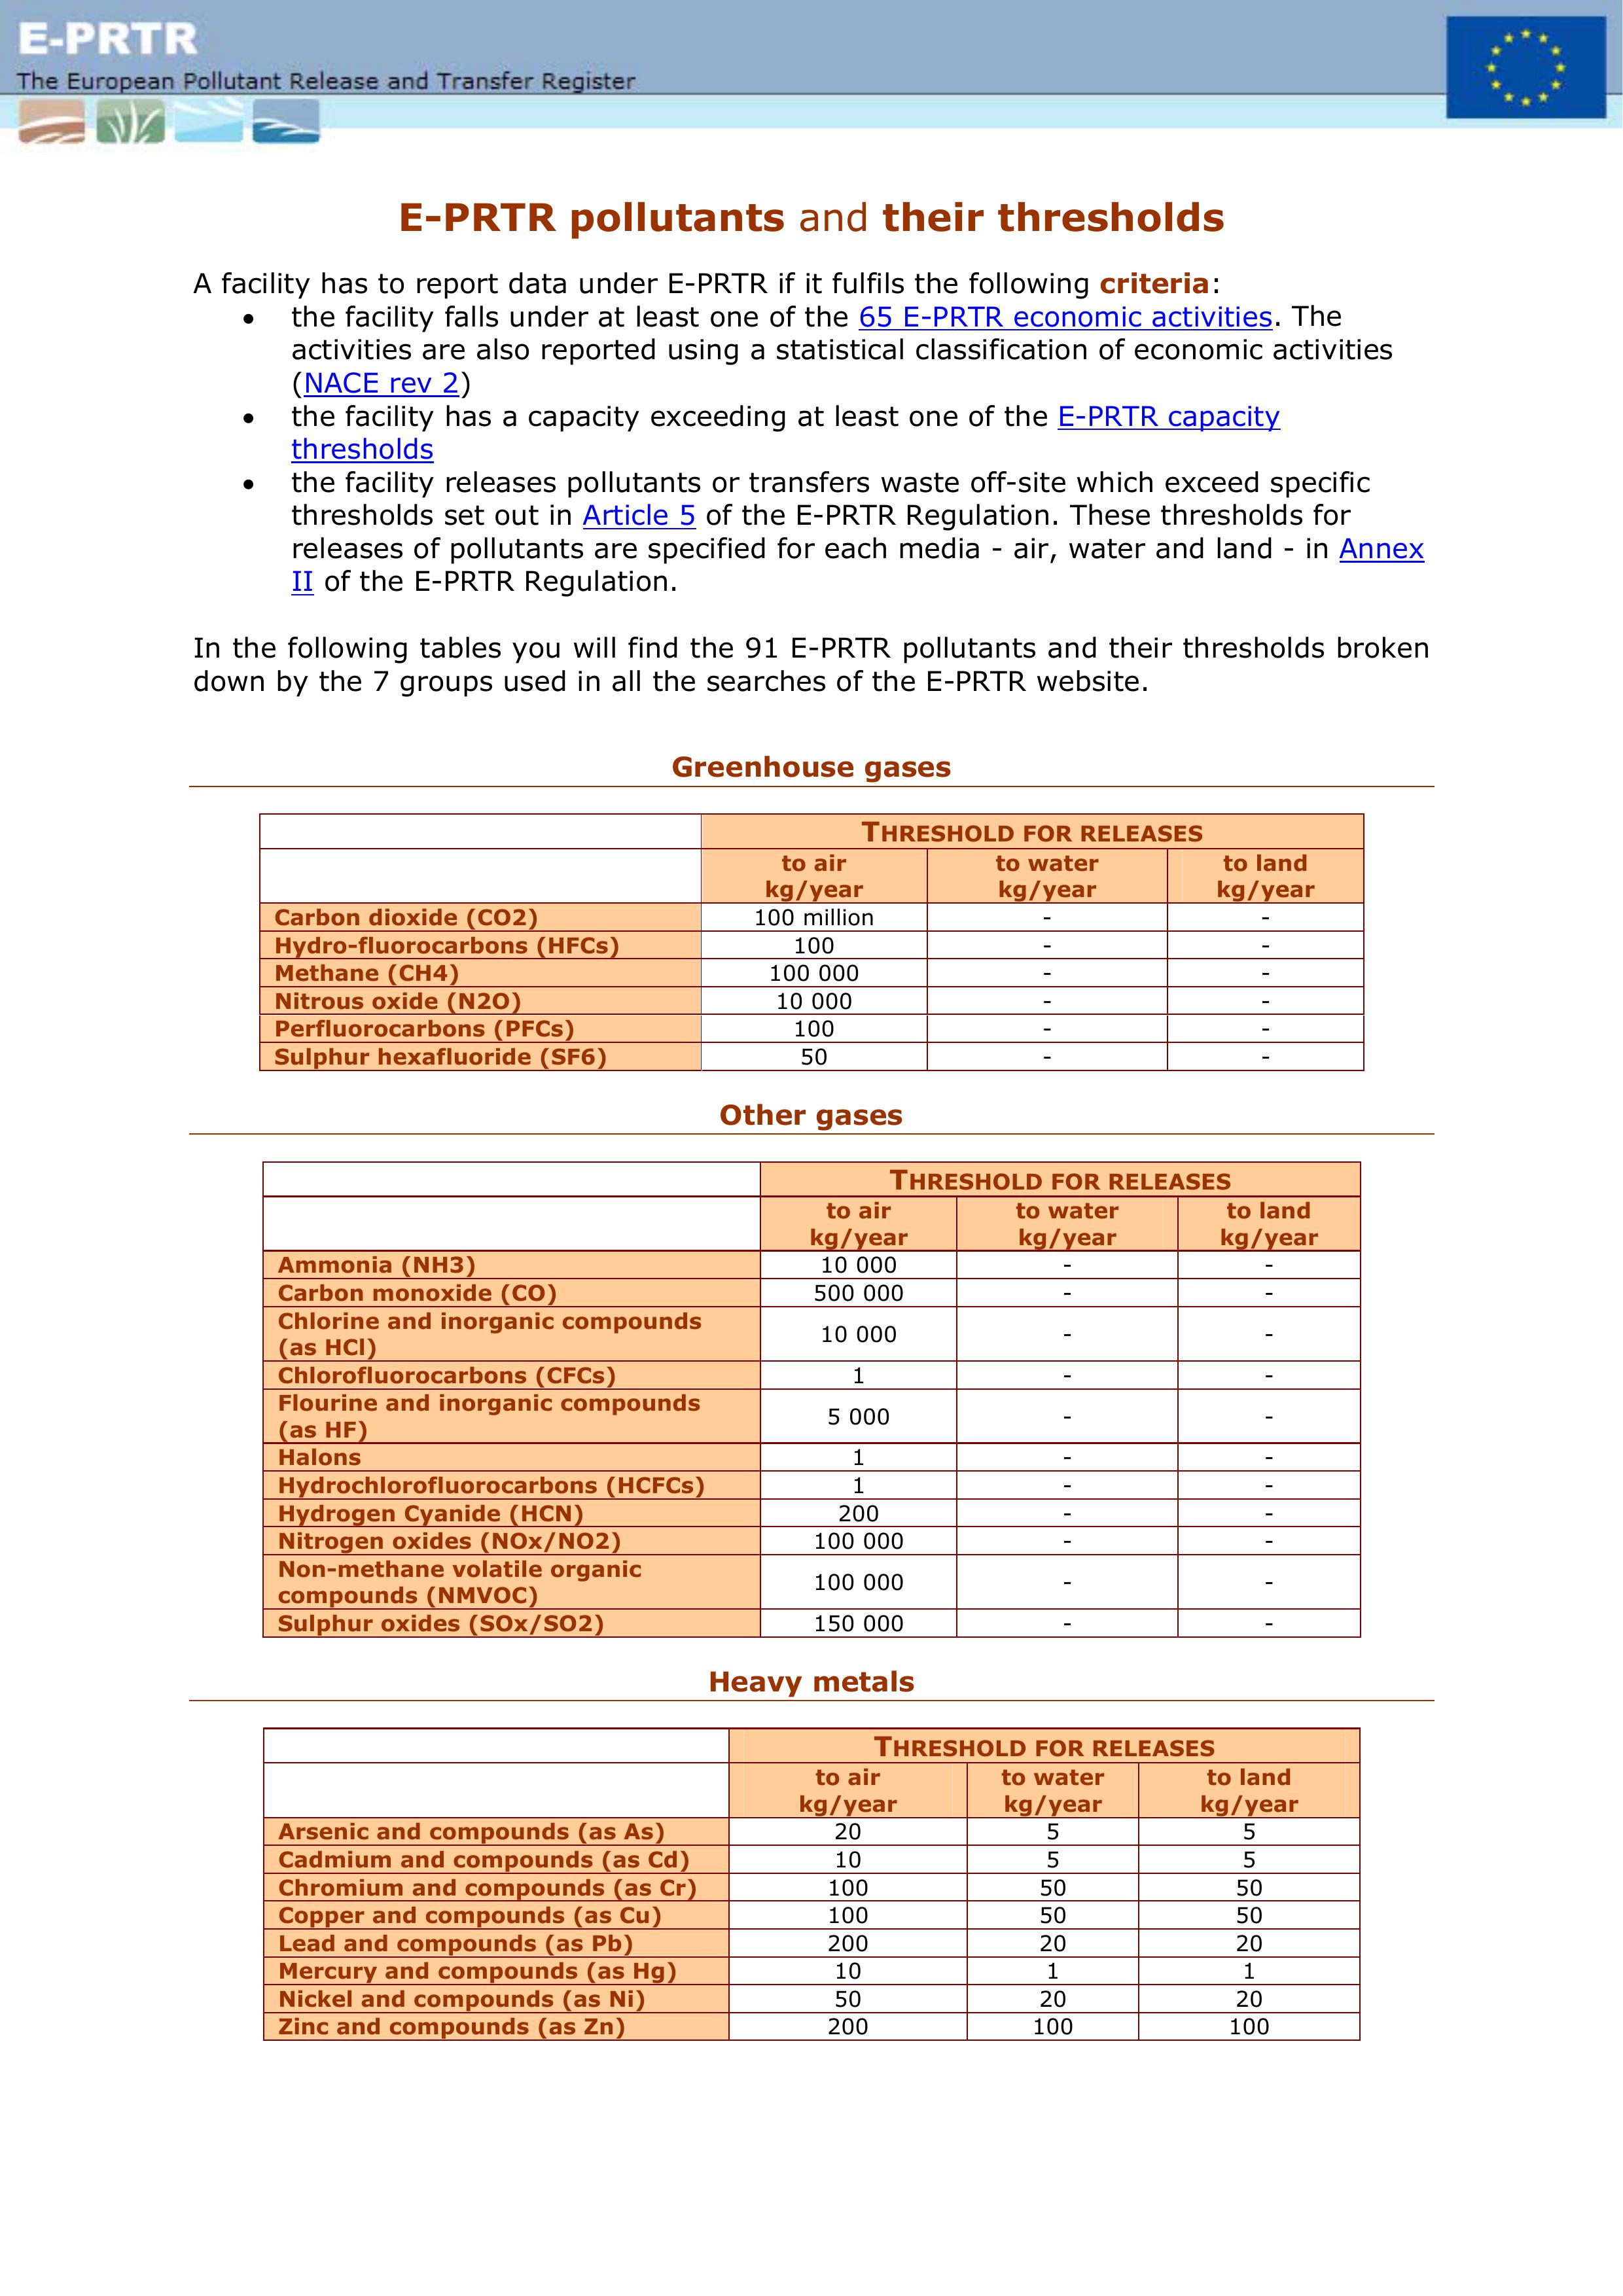table: (244, 813, 1395, 1088), (1275, 951, 1403, 1027), (1296, 869, 1353, 1023), (1275, 934, 1316, 951)
